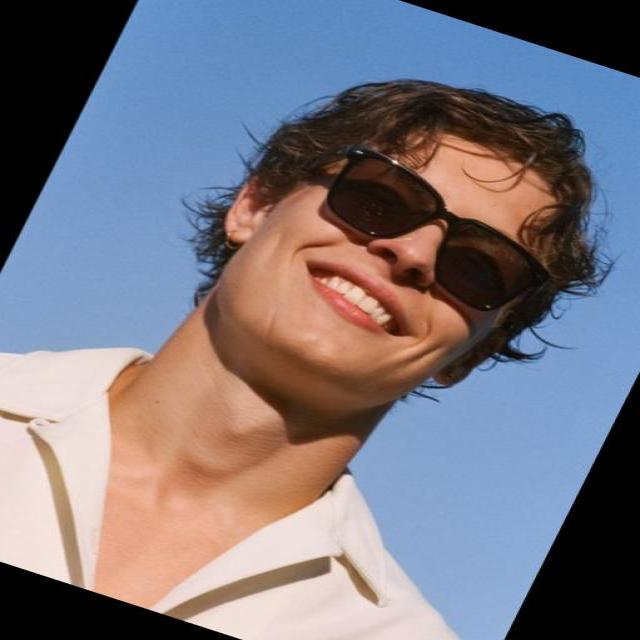glasses: (285, 136, 585, 328)
